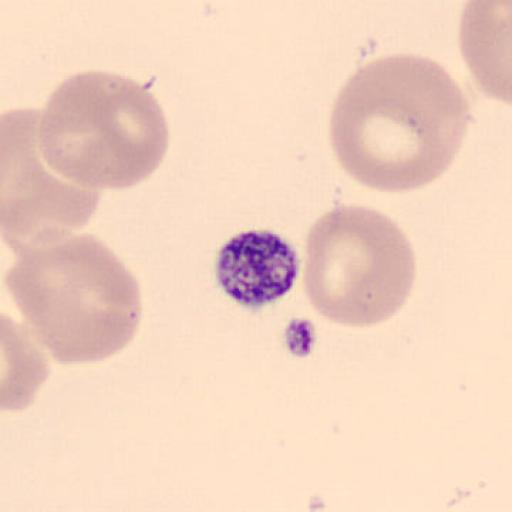Platelet: (209, 225, 303, 311)
RBC: (329, 52, 472, 193), (5, 232, 143, 367), (40, 69, 172, 191), (301, 202, 419, 332), (0, 110, 104, 250), (80, 70, 170, 190), (38, 69, 126, 189), (458, 0, 512, 106), (2, 310, 52, 414)
